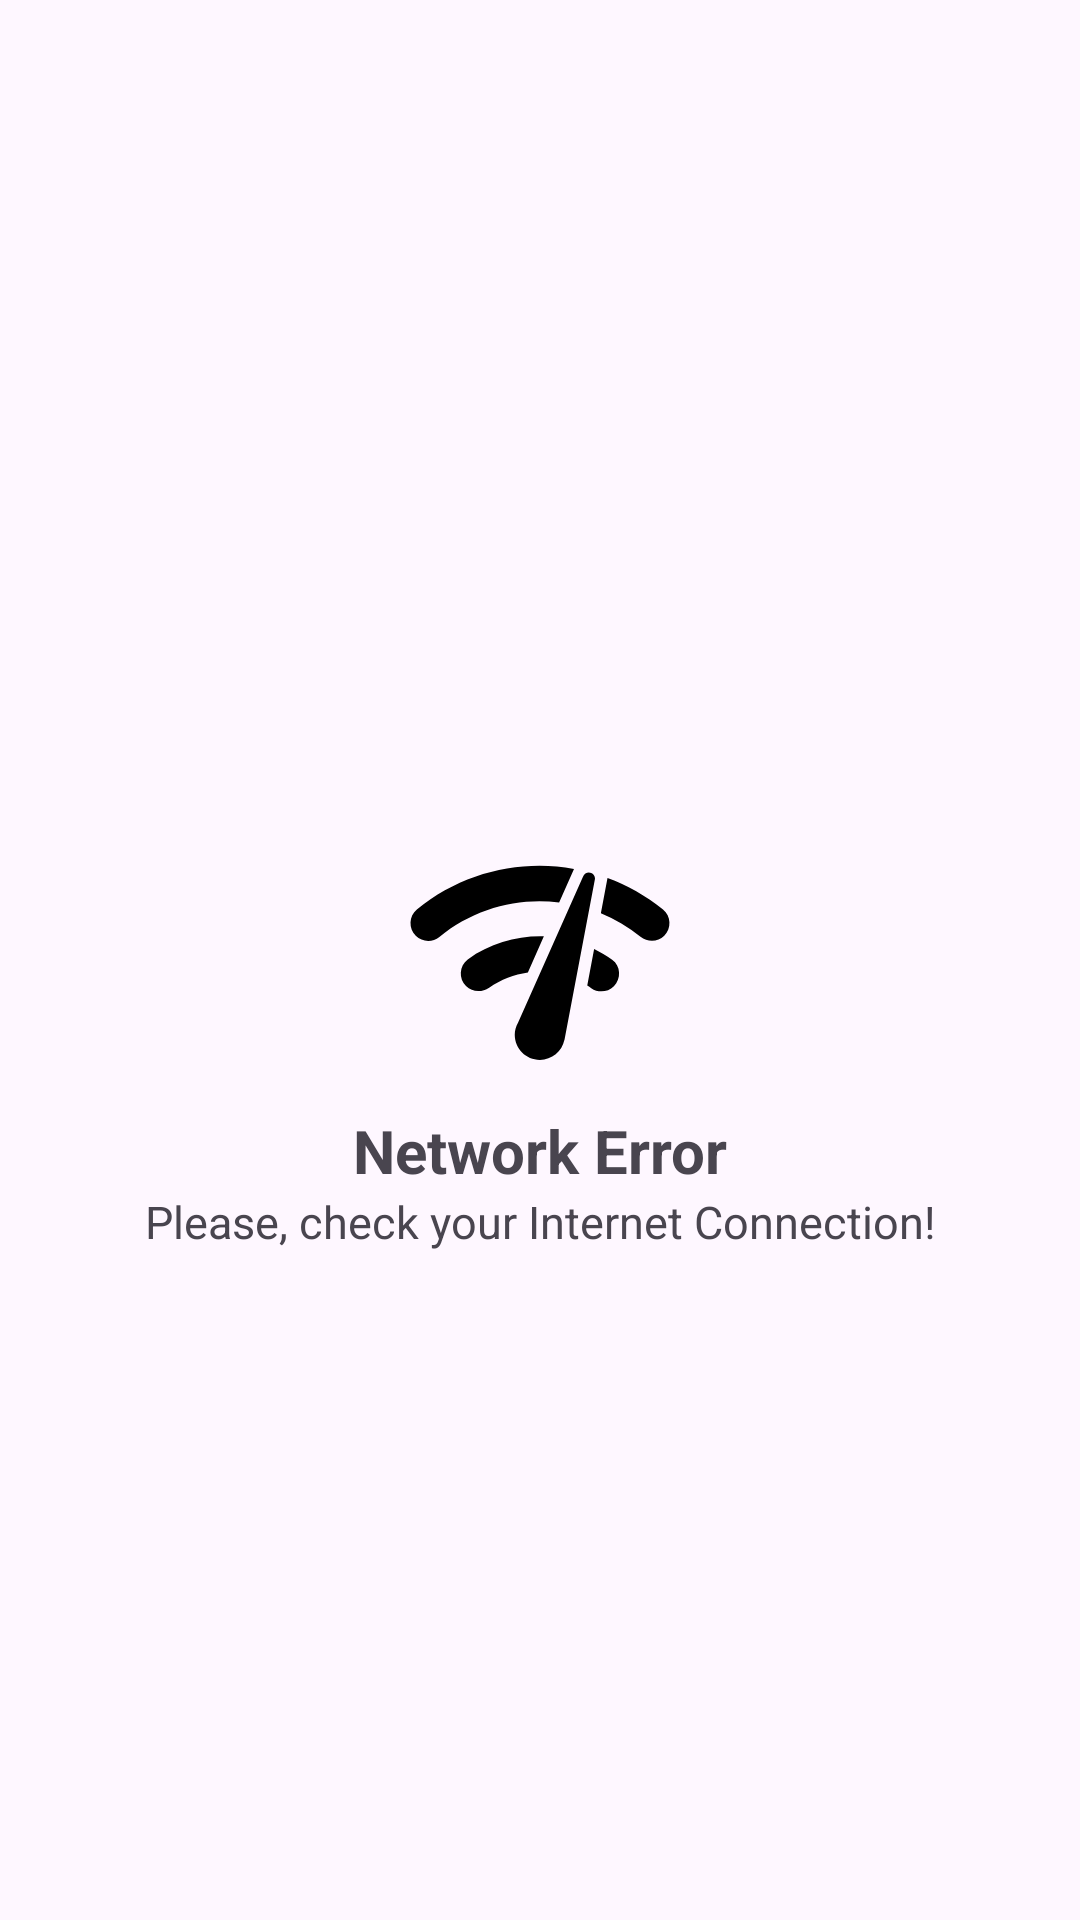

Icon click points for this 1080*1920 phone screenshot, format [x,y]:
network check: [540,962]
